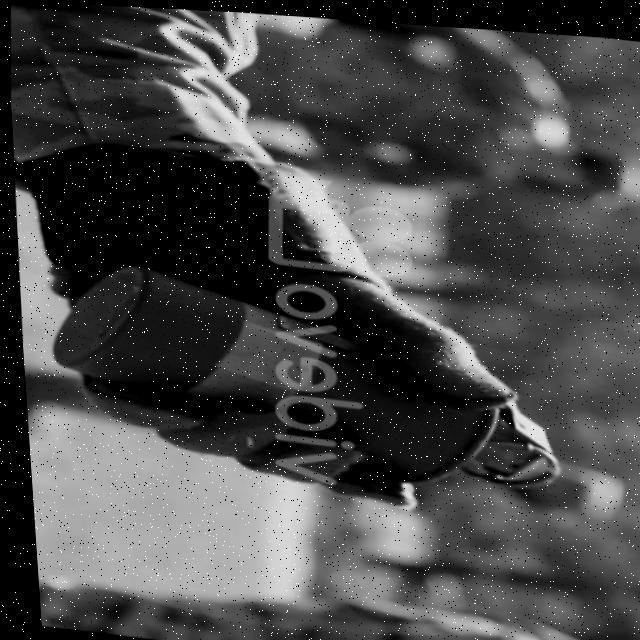grenade: (36, 253, 580, 508)
